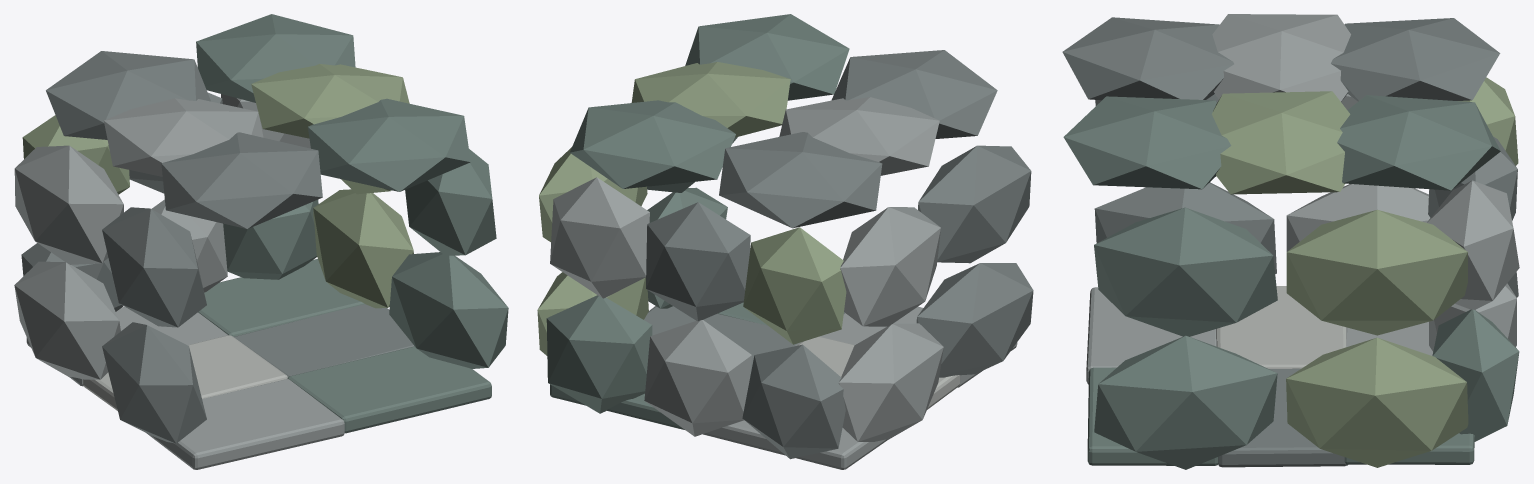
The model's file is tunnel_dead_end_4x4x3p5.glb.
3 views of the same model, side by side, from view 1: azimuth 30°, elevation 25°; view 2: azimuth 150°, elevation 25°; view 3: azimuth 270°, elevation 25° (orthographic). The views are drawn at different scales.
Parts seen in each view (by area): view 1: tunnel_straight_ceiling_01, tunnel_straight_ceiling_02, tunnel_straight_wall_03, cave_floor_02, cave_floor_01, tunnel_straight_wall_06, tunnel_straight_wall_02, tunnel_straight_wall_05, tunnel_straight_wall_01, tunnel_straight_ceiling_05, tunnel_straight_wall_04, tunnel_straight_ceiling_06 (+13 smaller); view 2: tunnel_straight_ceiling_05, tunnel_straight_ceiling_06, tunnel_straight_wall_05, tunnel_dead_end_05, tunnel_dead_end_03, tunnel_dead_end_02, tunnel_straight_wall_01, tunnel_straight_wall_02, tunnel_straight_wall_06, tunnel_dead_end_04, tunnel_dead_end_06, tunnel_dead_end_01 (+12 smaller); view 3: tunnel_straight_wall_04, tunnel_straight_wall_03, tunnel_straight_wall_07, tunnel_straight_wall_08, tunnel_straight_ceiling_04, tunnel_straight_ceiling_06, tunnel_straight_ceiling_02, tunnel_straight_ceiling_01, tunnel_straight_ceiling_05, tunnel_straight_ceiling_03, tunnel_dead_end_03, tunnel_dead_end_06 (+11 smaller).
Boxes of the visible parts, <box> form: tunnel_straight_ceiling_01: <box>161,132,322,228</box>; tunnel_straight_ceiling_02: <box>308,98,470,191</box>; tunnel_straight_wall_03: <box>389,252,508,368</box>; cave_floor_02: <box>287,346,491,433</box>; cave_floor_01: <box>146,379,344,469</box>; tunnel_straight_wall_06: <box>14,145,123,264</box>; tunnel_straight_wall_02: <box>14,261,120,379</box>; tunnel_straight_wall_05: <box>102,207,206,327</box>; tunnel_straight_wall_01: <box>102,322,206,443</box>; tunnel_straight_ceiling_05: <box>46,51,210,139</box>; tunnel_straight_wall_04: <box>313,189,413,308</box>; tunnel_straight_ceiling_06: <box>196,14,355,102</box>; tunnel_straight_ceiling_05: <box>719,132,882,228</box>; tunnel_straight_ceiling_06: <box>570,100,735,188</box>; tunnel_straight_wall_05: <box>918,145,1031,263</box>; tunnel_dead_end_05: <box>646,202,750,321</box>; tunnel_dead_end_03: <box>546,295,652,413</box>; tunnel_dead_end_02: <box>644,320,751,436</box>; tunnel_straight_wall_01: <box>916,263,1033,377</box>; tunnel_straight_wall_02: <box>838,323,943,441</box>; tunnel_straight_wall_06: <box>840,207,940,326</box>; tunnel_dead_end_04: <box>743,227,846,344</box>; tunnel_dead_end_06: <box>550,177,649,298</box>; tunnel_dead_end_01: <box>742,344,845,459</box>; tunnel_straight_wall_04: <box>1286,337,1468,467</box>; tunnel_straight_wall_03: <box>1094,335,1277,469</box>; tunnel_straight_wall_07: <box>1094,207,1277,336</box>; tunnel_straight_wall_08: <box>1286,209,1467,335</box>; tunnel_straight_ceiling_04: <box>1212,91,1350,194</box>; tunnel_straight_ceiling_06: <box>1337,95,1500,190</box>; tunnel_straight_ceiling_02: <box>1063,96,1231,189</box>; tunnel_straight_ceiling_01: <box>1062,17,1233,100</box>; tunnel_straight_ceiling_05: <box>1331,18,1500,101</box>; tunnel_straight_ceiling_03: <box>1212,14,1350,101</box>; tunnel_dead_end_03: <box>1432,309,1519,441</box>; tunnel_dead_end_06: <box>1427,180,1519,309</box>.
Size of the model in its own units: 5.03 by 3.66 by 4.78.
